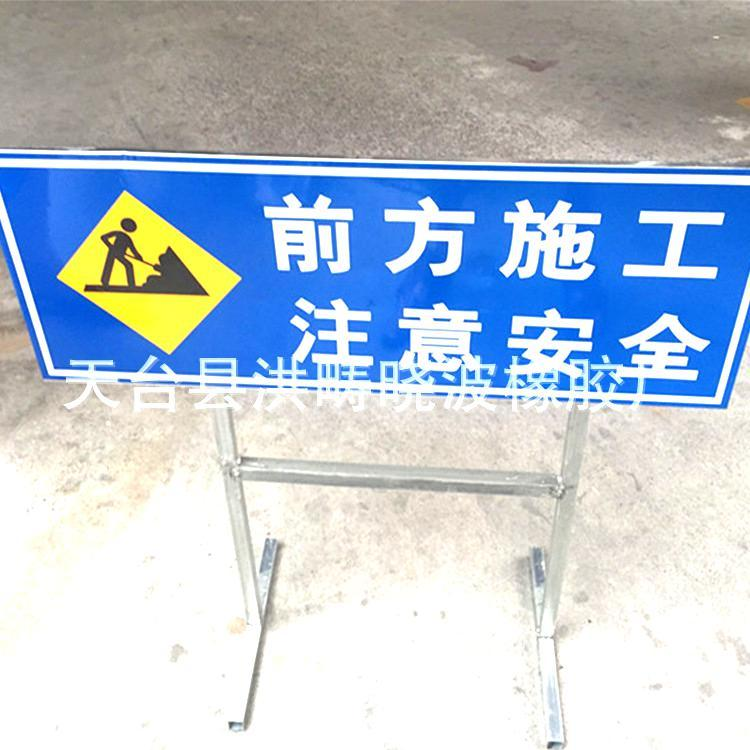sign: (3, 147, 735, 411)
